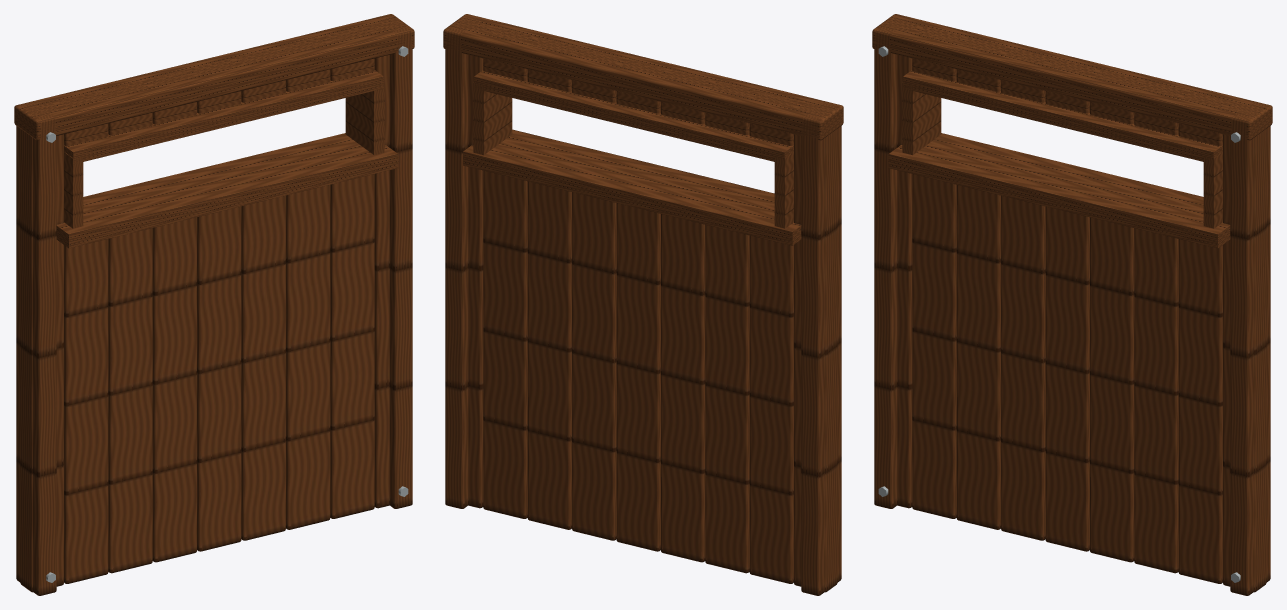
File: modular-survival-base-builder-wall-high-clerestory-ff307c36__24161.glb
3 renders of one model, left to right at view 1: azimuth 30°, elevation 25°; view 2: azimuth 150°, elevation 25°; view 3: azimuth 330°, elevation 25°, orthographic.
Visible parts, largest first — view 1: wall-high-clerestory; view 2: wall-high-clerestory; view 3: wall-high-clerestory.
Part boxes in pixels (left/top/right/bottom): wall-high-clerestory: left=14, top=14, right=414, bottom=595; wall-high-clerestory: left=443, top=14, right=843, bottom=595; wall-high-clerestory: left=872, top=14, right=1272, bottom=595.
Bounding box in the file's own units: 2 × 2.4 × 0.3199.
Materials: 2 (1 with a texture image).
